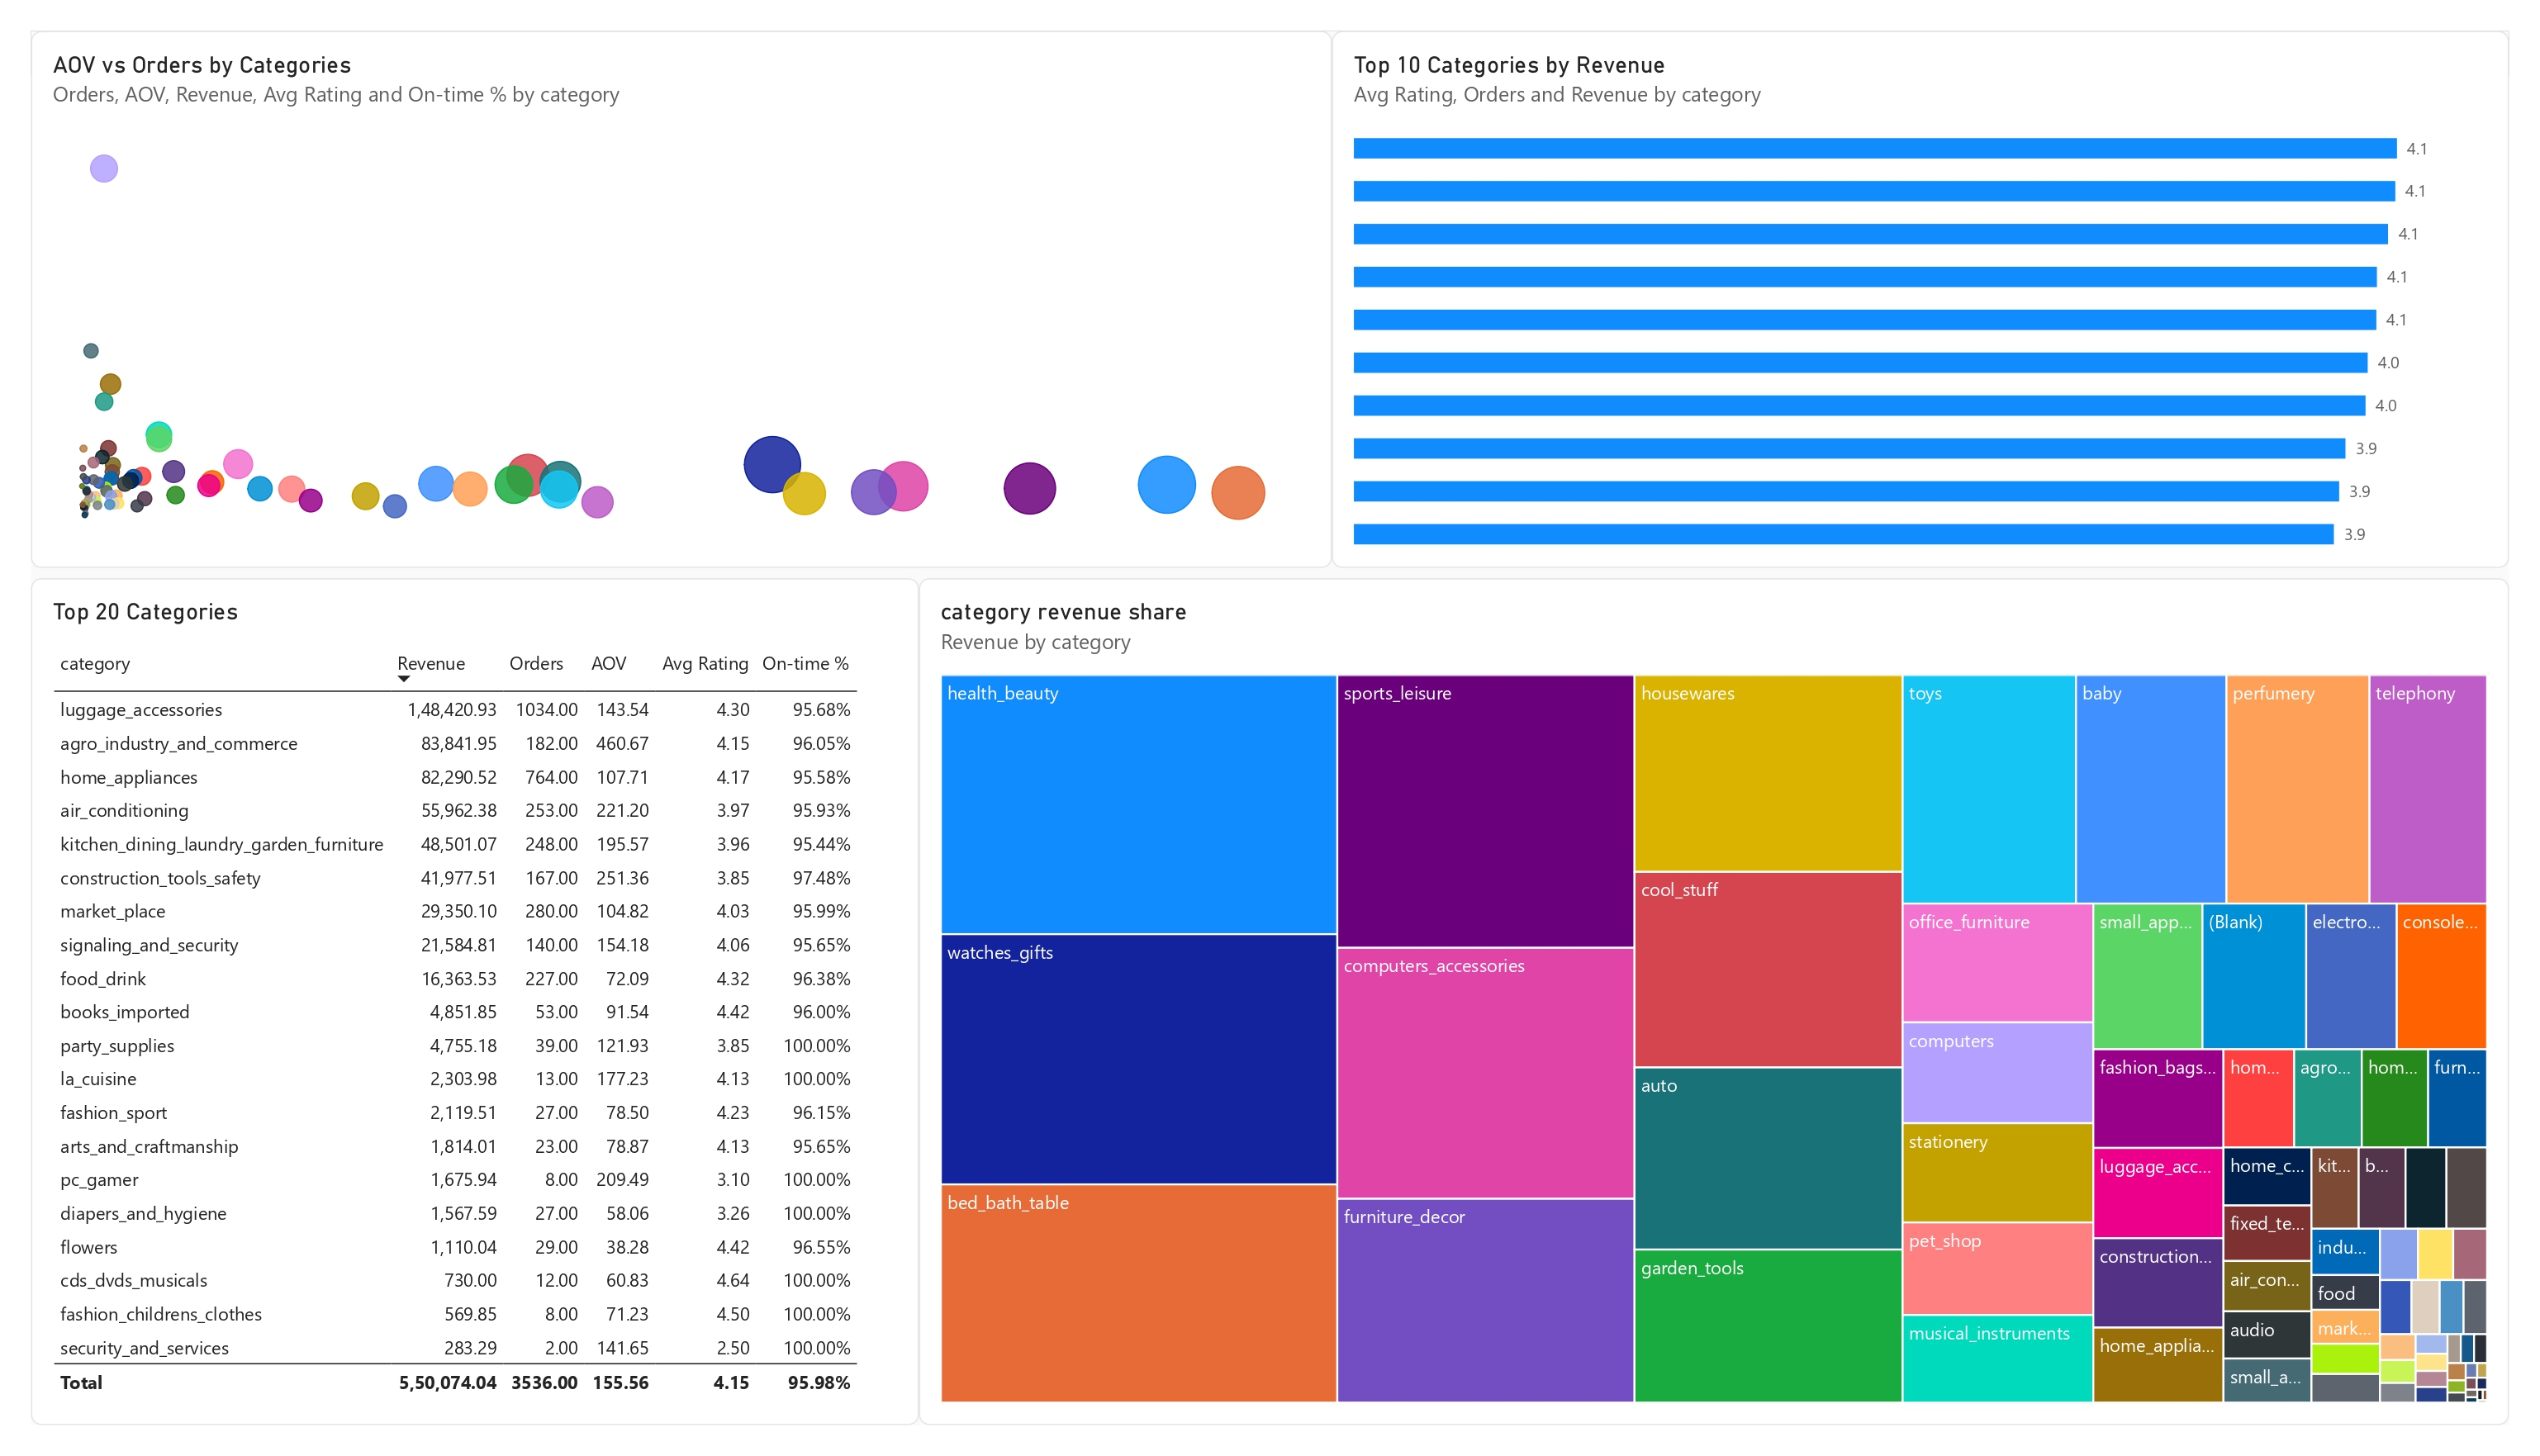

This screenshot's page, from the dashboard's own definition file:
{"tool":"powerbi","page":{"name":"Category and products","canvas":[1920,1080],"ordinal":2},"visuals":[{"type":"treemap","title":"category revenue share","fields":{"Group":["public bi_fact_sales.category"],"Values":["public bi_fact_sales.Revenue"]},"box":[688,424,1232,656],"z":0},{"type":"scatterChart","title":"AOV vs Orders by Categories","fields":{"Series":["public bi_fact_sales.category"],"Size":["public bi_fact_sales.Revenue"],"X":["public bi_fact_sales.Orders"],"Y":["public bi_fact_sales.AOV"]},"box":[0,0,1008,416],"z":1000},{"type":"barChart","title":"Top 10 Categories by Revenue","fields":{"Category":["public bi_fact_sales.category"],"Y":["public bi_fact_sales.Avg Rating"]},"box":[1008,0,912,416],"z":2000},{"type":"tableEx","title":"Top 20 Categories","fields":{"Values":["public bi_fact_sales.category","public bi_fact_sales.Revenue","public bi_fact_sales.Orders","public bi_fact_sales.AOV","public bi_fact_sales.Avg Rating","public bi_fact_sales.On-time %"]},"box":[0,424,688,656],"z":3000}]}

Visuals, with their boxes on the page's 1920x1080 design canvas (x1, y1, x2, y2). These are canvas units, not pixel positions in the 2540x1456 screenshot, which may show the page scaled, cropped or inside an application window:
"category revenue share" treemap: l=688, t=424, r=1920, b=1080
"AOV vs Orders by Categories" scatterChart: l=0, t=0, r=1008, b=416
"Top 10 Categories by Revenue" barChart: l=1008, t=0, r=1920, b=416
"Top 20 Categories" tableEx: l=0, t=424, r=688, b=1080
